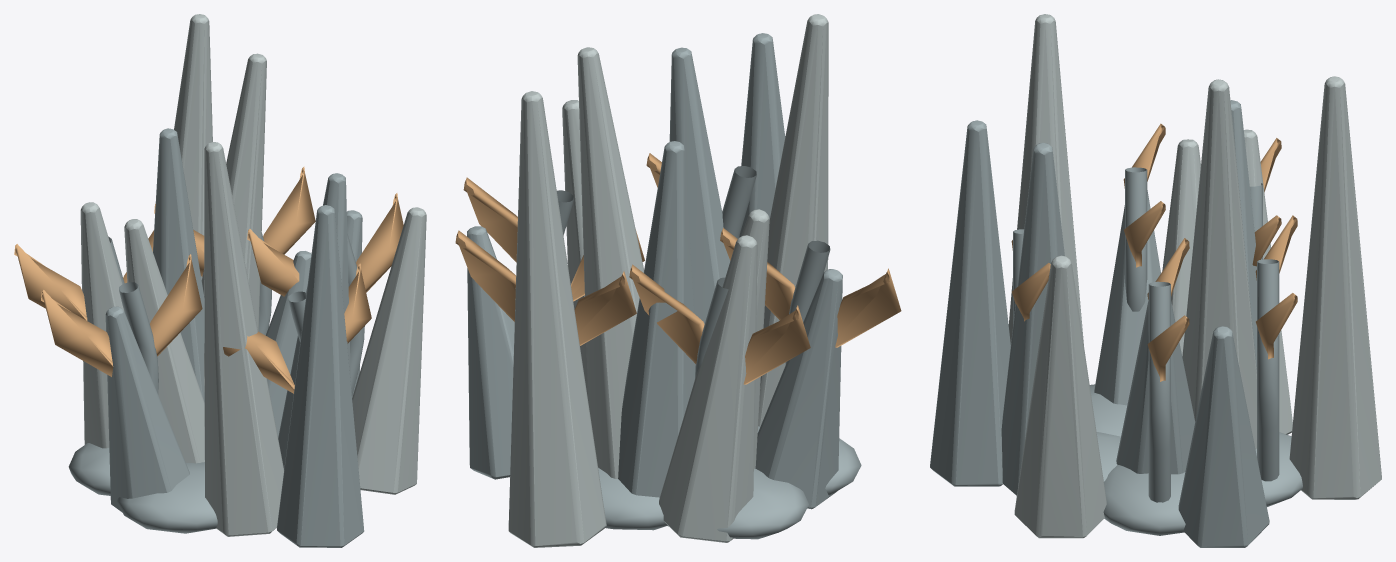
The model's file is bio_crystal_fan_17_far.glb.
3 views of the same model, side by side, from view 1: azimuth 30°, elevation 25°; view 2: azimuth 150°, elevation 25°; view 3: azimuth 270°, elevation 25° (orthographic). The views are drawn at different scales.
Visible parts, largest first — view 1: Reflecting mineral prism.007, Reflecting mineral prism.002, Reflecting mineral prism.005, Reflecting mineral prism.004, Reflecting mineral prism.009, Reflecting mineral prism.003, Reflecting mineral prism.006, Reflecting mineral prism.001, Mineral substrate, Reflecting mineral prism.011, Secondary fan lobe.008, Secondary fan lobe (+10 smaller); view 2: Reflecting mineral prism.011, Reflecting mineral prism.001, Reflecting mineral prism.006, Reflecting mineral prism.003, Reflecting mineral prism.004, Reflecting mineral prism.007, Reflecting mineral prism.008, Reflecting mineral prism.010, Mineral substrate, Reflecting mineral prism.002, Secondary fan lobe.002, Secondary fan lobe.006 (+7 smaller); view 3: Reflecting mineral prism.011, Reflecting mineral prism.002, Reflecting mineral prism.005, Reflecting mineral prism.003, Reflecting mineral prism.008, Reflecting mineral prism.010, Mineral substrate, Reflecting mineral prism.007, Reflecting mineral prism, Reflecting mineral prism.004, Branching support, Branching support.003 (+9 smaller).
Part boxes in pixels (bbox=[...]): Reflecting mineral prism.007: bbox=[204, 142, 283, 536]; Reflecting mineral prism.002: bbox=[277, 205, 364, 547]; Reflecting mineral prism.005: bbox=[352, 207, 426, 494]; Reflecting mineral prism.004: bbox=[105, 306, 189, 512]; Reflecting mineral prism.009: bbox=[124, 219, 204, 463]; Reflecting mineral prism.003: bbox=[201, 53, 266, 391]; Reflecting mineral prism.006: bbox=[153, 128, 204, 401]; Reflecting mineral prism.001: bbox=[80, 202, 123, 448]; Mineral substrate: bbox=[68, 443, 217, 533]; Reflecting mineral prism.011: bbox=[174, 14, 212, 279]; Secondary fan lobe.008: bbox=[41, 254, 202, 376]; Secondary fan lobe: bbox=[247, 193, 403, 296]; Reflecting mineral prism.011: bbox=[508, 91, 606, 547]; Reflecting mineral prism.001: bbox=[659, 235, 757, 542]; Reflecting mineral prism.006: bbox=[618, 141, 695, 497]; Reflecting mineral prism.003: bbox=[577, 47, 643, 478]; Reflecting mineral prism.004: bbox=[755, 269, 842, 509]; Reflecting mineral prism.007: bbox=[758, 14, 828, 426]; Reflecting mineral prism.008: bbox=[467, 226, 514, 479]; Reflecting mineral prism.010: bbox=[669, 47, 730, 323]; Mineral substrate: bbox=[598, 426, 861, 539]; Reflecting mineral prism.002: bbox=[739, 33, 785, 237]; Secondary fan lobe.002: bbox=[629, 264, 810, 384]; Secondary fan lobe.006: bbox=[455, 230, 636, 345]; Reflecting mineral prism.011: bbox=[1289, 76, 1381, 499]; Reflecting mineral prism.002: bbox=[930, 120, 1010, 486]; Reflecting mineral prism.005: bbox=[1014, 255, 1106, 538]; Reflecting mineral prism.003: bbox=[1182, 79, 1256, 449]; Reflecting mineral prism.008: bbox=[1178, 326, 1269, 547]; Reflecting mineral prism.010: bbox=[1001, 142, 1064, 495]; Mineral substrate: bbox=[1089, 384, 1302, 535]; Reflecting mineral prism.007: bbox=[1008, 14, 1083, 344]; Reflecting mineral prism: bbox=[1116, 300, 1195, 474]; Reflecting mineral prism.004: bbox=[1094, 190, 1160, 405]; Branching support: bbox=[1148, 281, 1170, 502]; Branching support.003: bbox=[1257, 259, 1279, 481].
Bounding box in the file's own units: 1.85 × 1.91 × 1.82.
